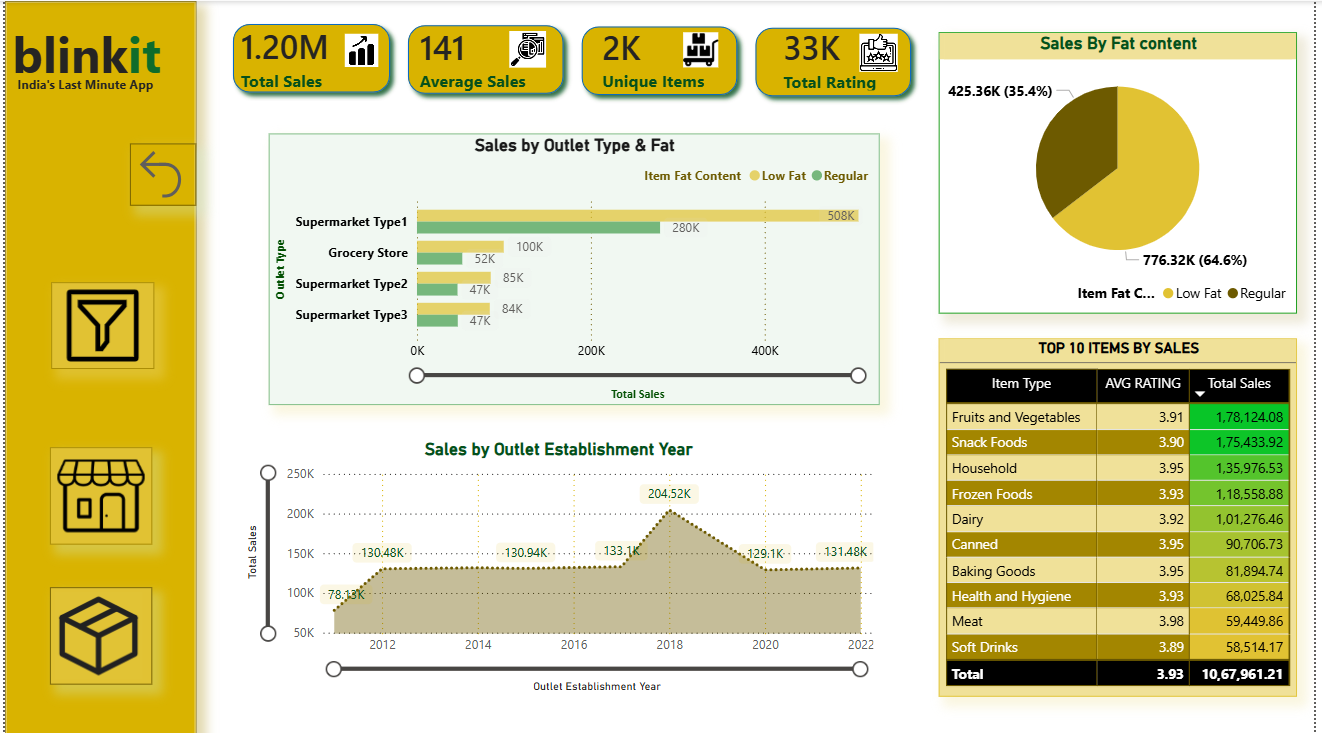

Layout of this report page (visuals, bound fields, positions):
{"tool":"powerbi","page":{"name":"BLINKIT DATA","canvas":[1280,720],"ordinal":0},"visuals":[{"type":"shape","box":[0,0,187.6,719.9],"z":0,"group":"g1"},{"type":"shape","box":[213.5,13,171.7,85.1],"z":0},{"type":"shape","box":[385.2,14.4,170.2,85.1],"z":1000},{"type":"actionButton","box":[122.6,139.9,64.9,60.6],"z":1000,"group":"g1"},{"type":"shape","box":[555.5,15.9,170.2,85.1],"z":2000},{"type":"actionButton","box":[44,436.6,100.3,95.4],"z":2000,"group":"g1"},{"type":"shape","box":[725.7,17.3,170.2,85.1],"z":3000},{"type":"actionButton","box":[44,573.5,100.3,95.4],"z":3000,"group":"g1"},{"type":"cardVisual","fields":{"Data":["Measure.Unique Items"]},"box":[555.5,5.8,194.8,164.5],"z":4000},{"type":"actionButton","box":[44.7,275.6,101,85.1],"z":4000,"group":"g1"},{"type":"cardVisual","fields":{"Data":["Measure.Average Sales"]},"box":[376.6,5.8,194.8,164.5],"z":5000},{"type":"textbox","box":[2.9,13,170.2,75],"z":5000,"group":"g1"},{"type":"cardVisual","fields":{"Data":["Measure.Total Sales"]},"box":[202,8.7,152.9,152.9],"z":6000},{"type":"textbox","box":[7.2,67.8,171.7,39],"z":6000,"group":"g1"},{"type":"cardVisual","fields":{"Data":["Measure.Average Rating"]},"box":[732.9,8.7,155.8,96.7],"z":7000},{"type":"lineChart","title":"Sales by Outlet Establishment Year","fields":{"Category":["BlinkIT Grocery Data.Outlet Establishment Year"],"Y":["measure.Total Sales"]},"box":[228.7,428,626.1,253.1],"z":8000},{"type":"pieChart","title":"Sales By Fat content","fields":{"Category":["BlinkIT Grocery Data.Item Fat Content"],"Y":["measure.Total Sales"]},"box":[913.3,30.3,350.6,275.6],"z":9000},{"type":"image","box":[300.1,31.7,98.1,33.2],"z":10000},{"type":"image","box":[434.3,28.9,154.4,36.1],"z":11000},{"type":"image","box":[782,31.7,145.7,37.5],"z":12000},{"type":"image","box":[653.6,30.3,54.8,34.6],"z":13000},{"type":"clusteredBarChart","title":"Sales by Outlet Type & Fat","fields":{"Category":["BlinkIT Grocery Data.Outlet Type"],"Series":["BlinkIT Grocery Data.Item Fat Content"],"Y":["measure.Total Sales"]},"box":[258.3,129.8,597.3,265.5],"z":14000},{"type":"tableEx","title":"TOP 10 ITEMS BY SALES","fields":{"Values":["BlinkIT Grocery Data.Item Type","BlinkIT Grocery Data.AVG RATING","measure.Total Sales"]},"box":[913.3,330.4,350.6,350.6],"z":15000},{"type":"group","id":"g1","title":"visual 1","box":[0,0,187.6,719.9],"z":16000}]}

Visuals, with their boxes in screenshot pixels (x1, y1, x2, y2), scaled from the page's 1280x720 canvas onto the 1322x733 screenshot:
shape: <box>0,0,194,732</box>
shape: <box>221,13,398,100</box>
shape: <box>398,15,574,101</box>
actionButton: <box>127,142,194,204</box>
shape: <box>574,16,750,103</box>
actionButton: <box>45,444,149,542</box>
shape: <box>750,18,925,104</box>
actionButton: <box>45,584,149,681</box>
cardVisual - Measure.Unique Items: <box>574,6,775,173</box>
actionButton: <box>46,281,150,367</box>
cardVisual - Measure.Average Sales: <box>389,6,590,173</box>
textbox: <box>3,13,179,90</box>
cardVisual - Measure.Total Sales: <box>209,9,367,165</box>
textbox: <box>7,69,185,109</box>
cardVisual - Measure.Average Rating: <box>757,9,918,107</box>
"Sales by Outlet Establishment Year" lineChart: <box>236,436,883,693</box>
"Sales By Fat content" pieChart: <box>943,31,1305,311</box>
image: <box>310,32,411,66</box>
image: <box>449,29,608,66</box>
image: <box>808,32,958,70</box>
image: <box>675,31,732,66</box>
"Sales by Outlet Type & Fat" clusteredBarChart: <box>267,132,884,402</box>
"TOP 10 ITEMS BY SALES" tableEx: <box>943,336,1305,693</box>
"visual 1" group: <box>0,0,194,732</box>
